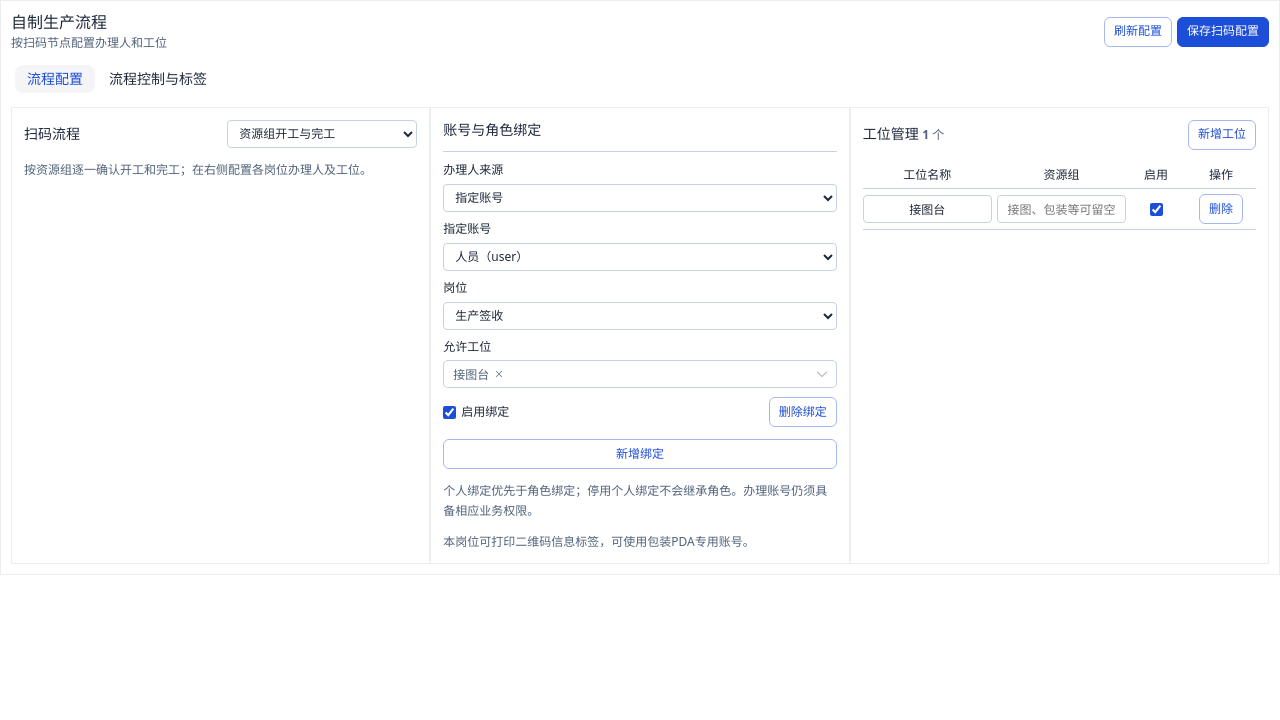
Test case: 生产扫码设置 › 新增工位可保存回读，删除已引用工位须确认并阻止留下无工位绑定
The image size is (1280, 720).
Click the button "新增工位" at [1222, 135], box [1188,120,1256,150]
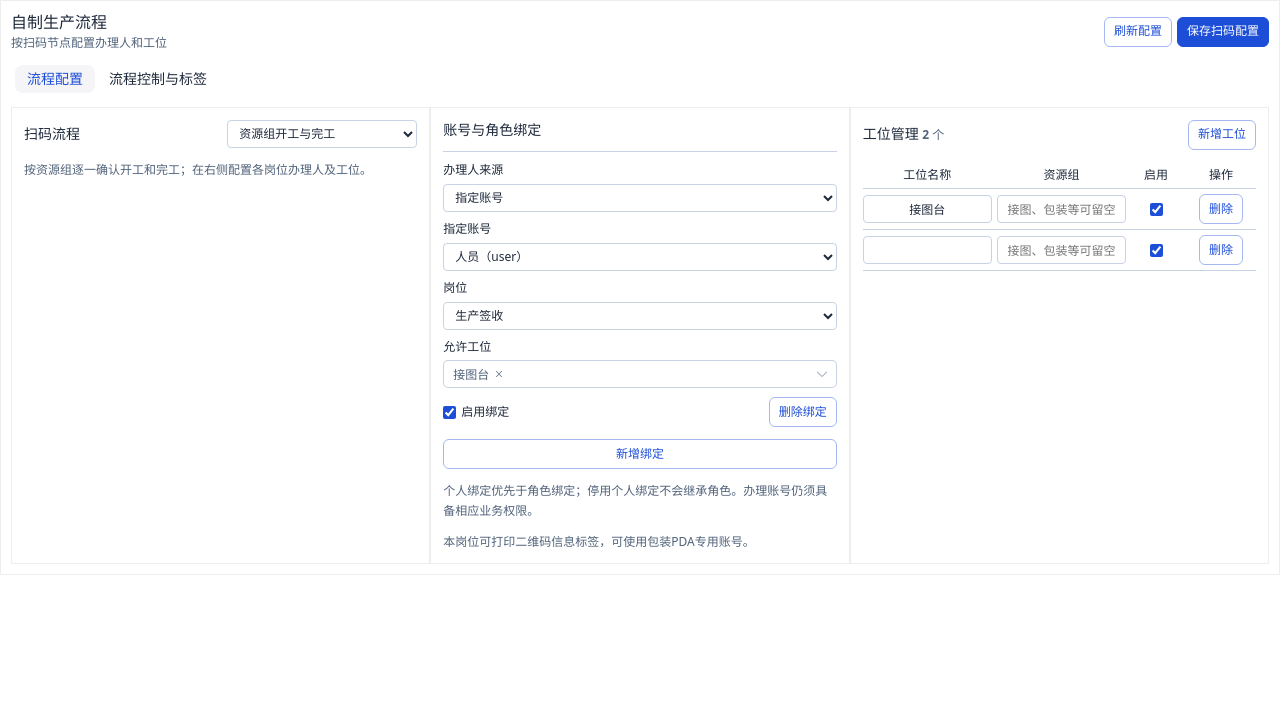
Type "CNC二号" into the field named "第2个工位名称" at [927, 250], box [863,236,992,264]
Type "CNC组" into the field named "第2个工位资源组" at [1061, 250], box [997,236,1126,264]
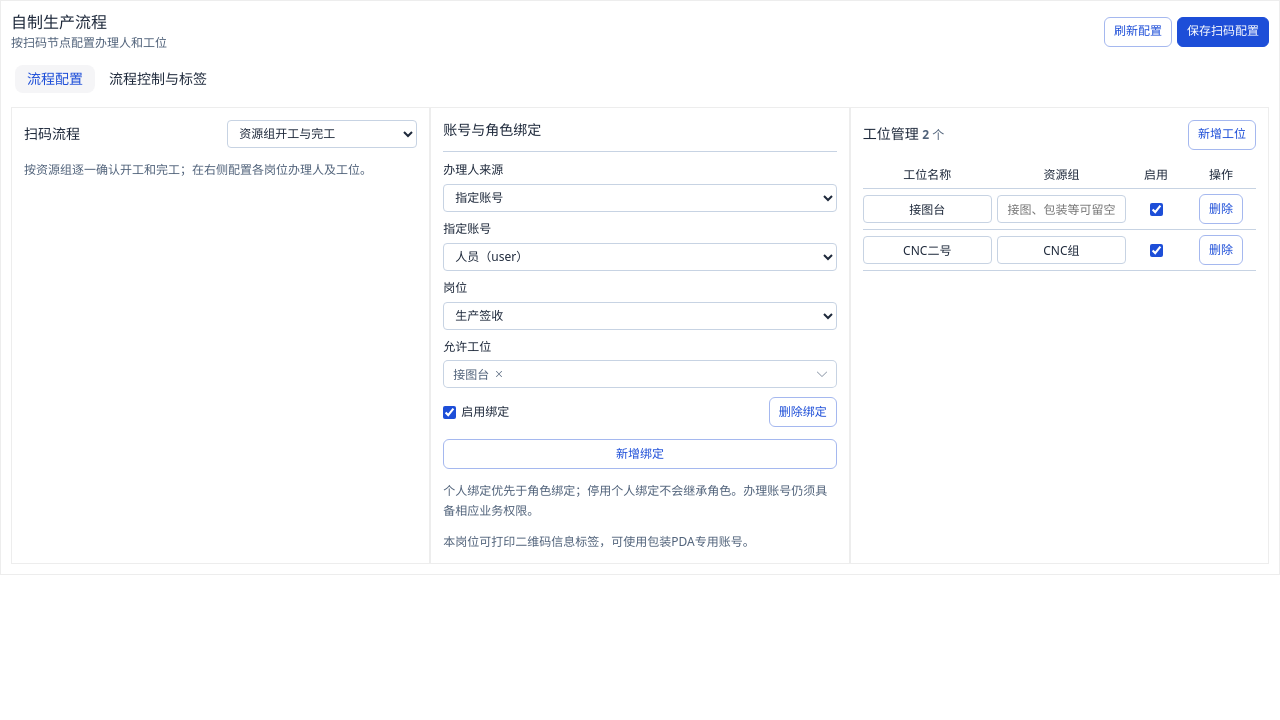
Submit the form
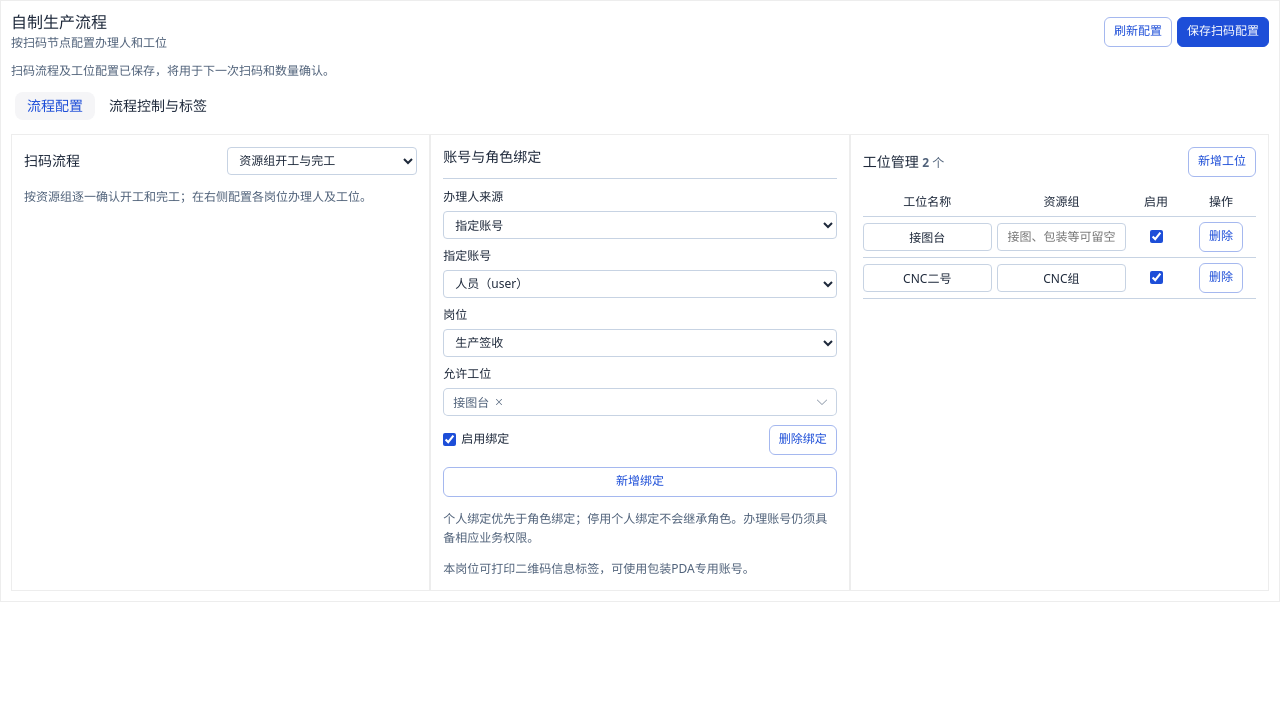
Click the button with aria-label "删除工位 接图台" at [1221, 237], box [1199,222,1243,252]
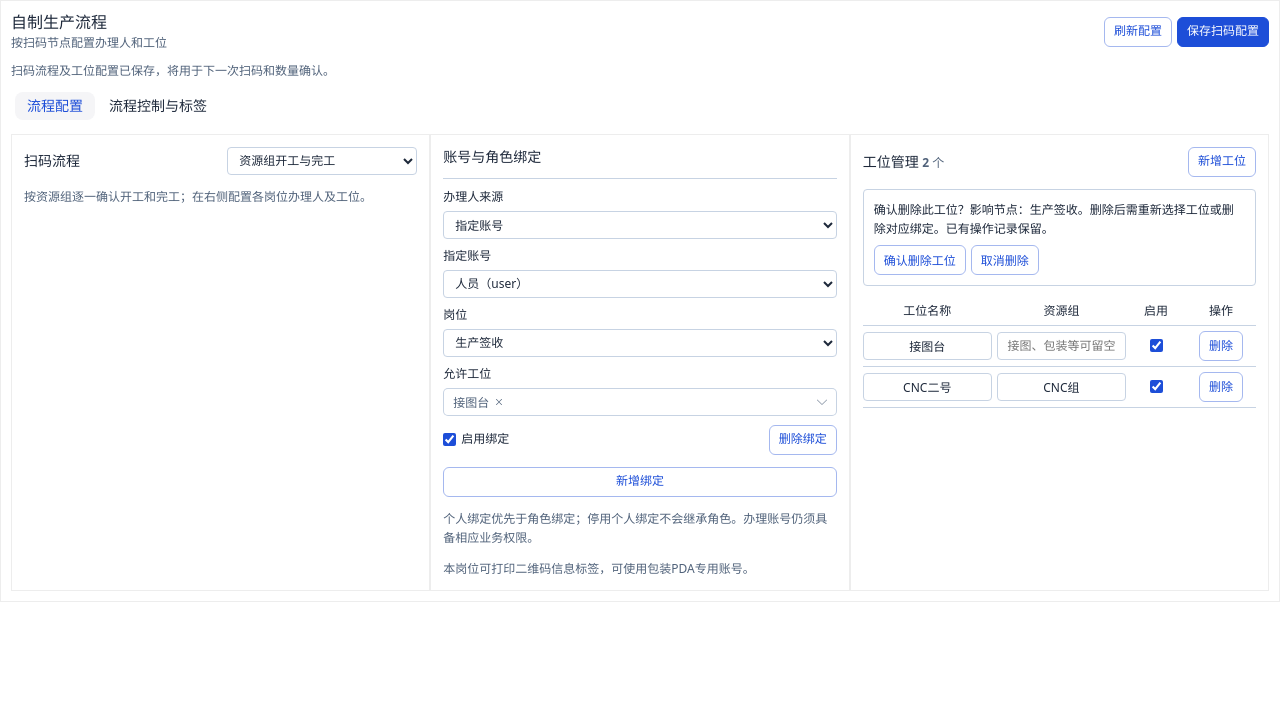
Result: the message "确认删除此工位？影响节点：生产签收。删除后需重新选择工位或删除对应绑定。已有操作记录保留。 确认删除工位 取消删除" is shown at [863,189,1256,286]
Click the button "确认删除工位" at [920, 260], box [874,245,966,275]
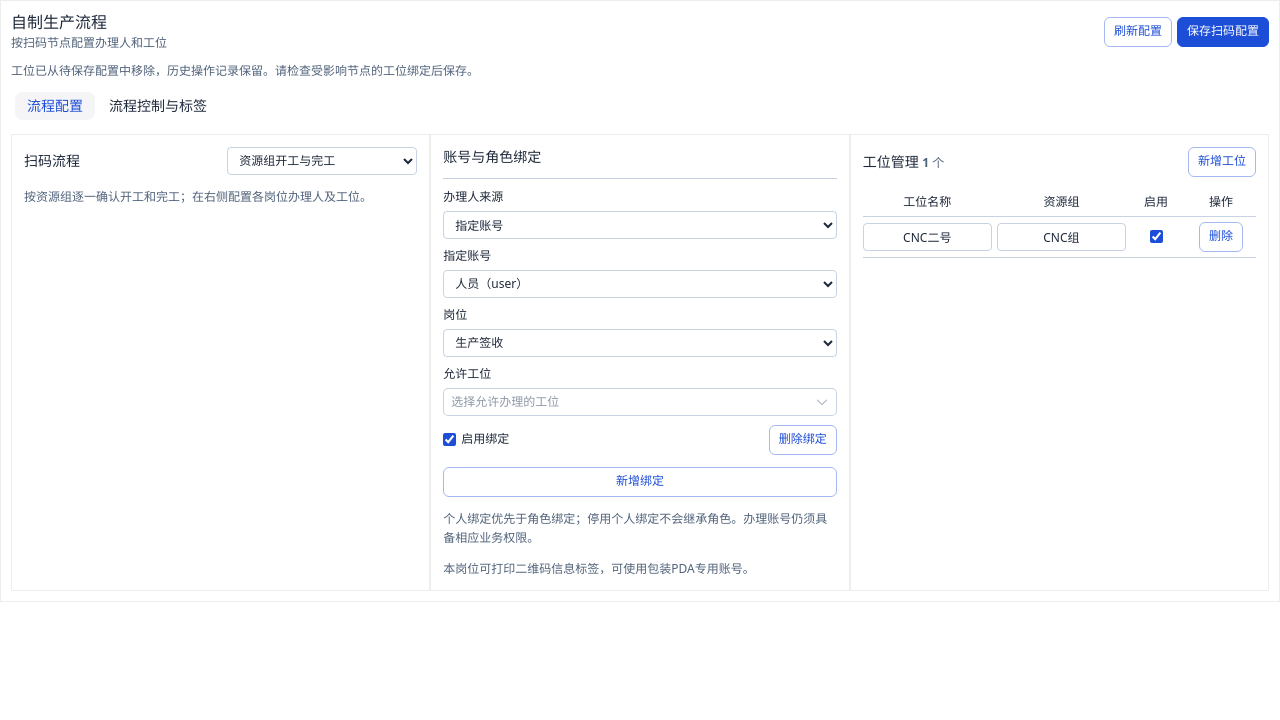
Result: the number of list items is 1 at [863,217,1256,258]
Submit the form
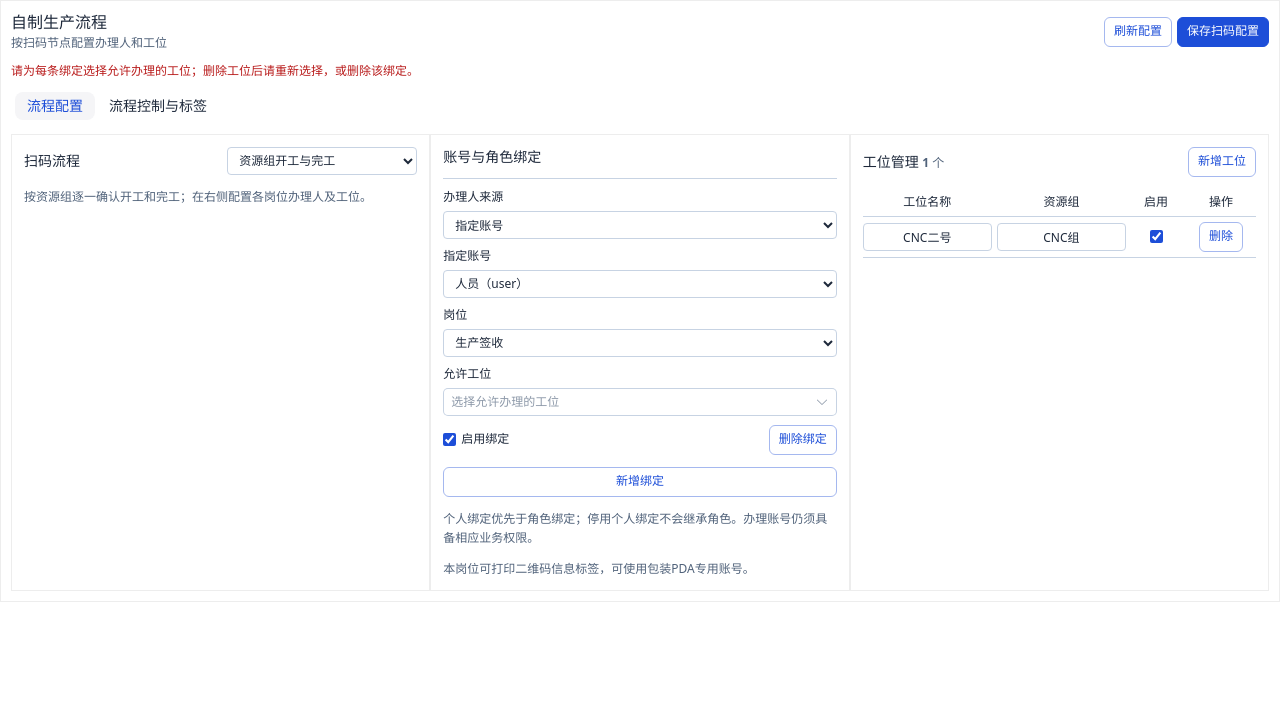
Result: the message "请为每条绑定选择允许办理的工位；删除工位后请重新选择，或删除该绑定。" is shown at [11,62,419,79]
